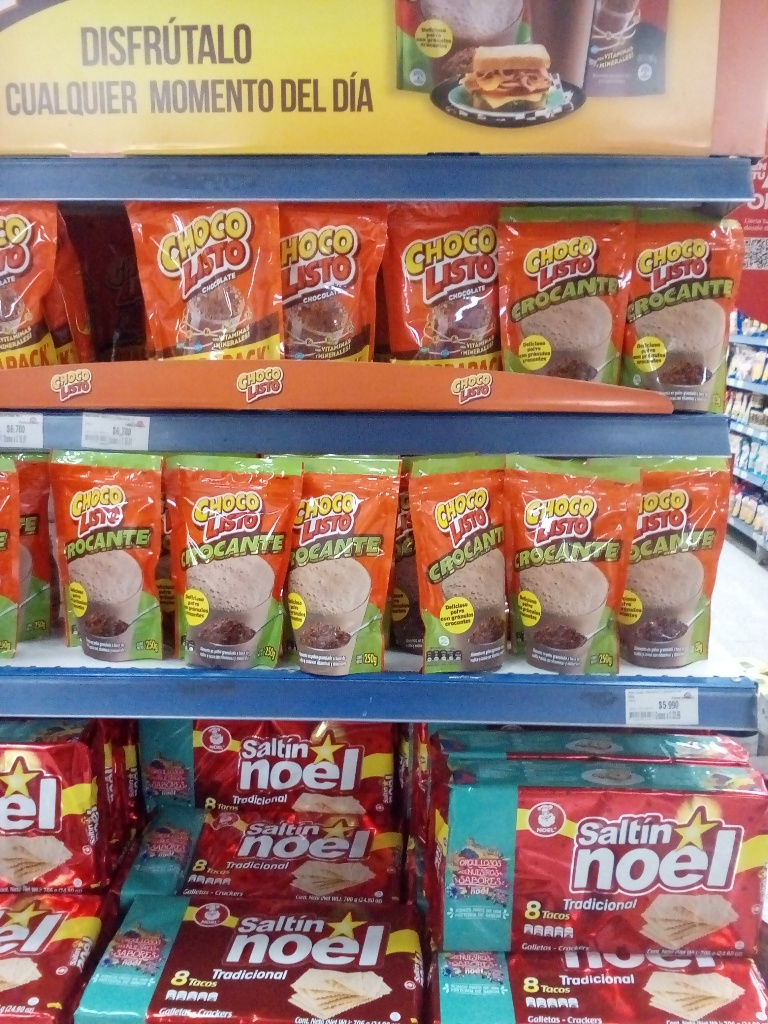COL0170102DYP25000: (494, 207, 627, 413)
COL0170103DYP36000: (0, 206, 85, 374)
